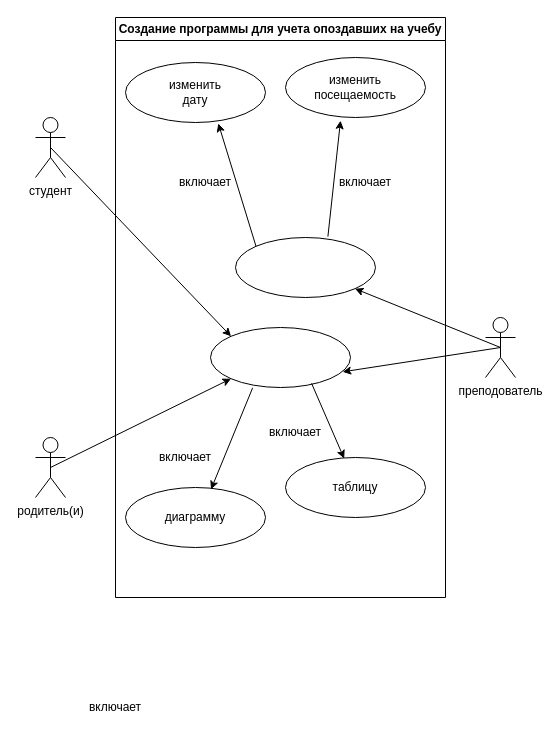
This 559x740 diagram has some shape labels left out. Each missing label, with the centre of its shape:
"просматривать" belongs at point (280, 357).
"редактировать" belongs at point (305, 267).
